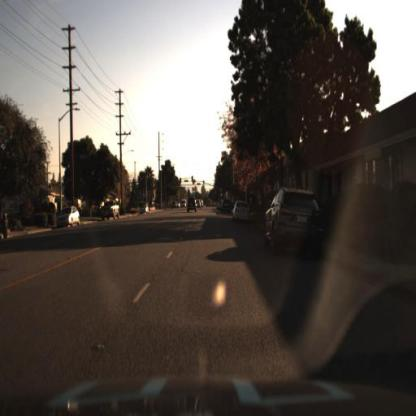car: (266, 190, 327, 258), (54, 204, 82, 235), (58, 206, 83, 231), (231, 200, 250, 222), (104, 200, 121, 220), (139, 202, 151, 218), (188, 197, 198, 213)
